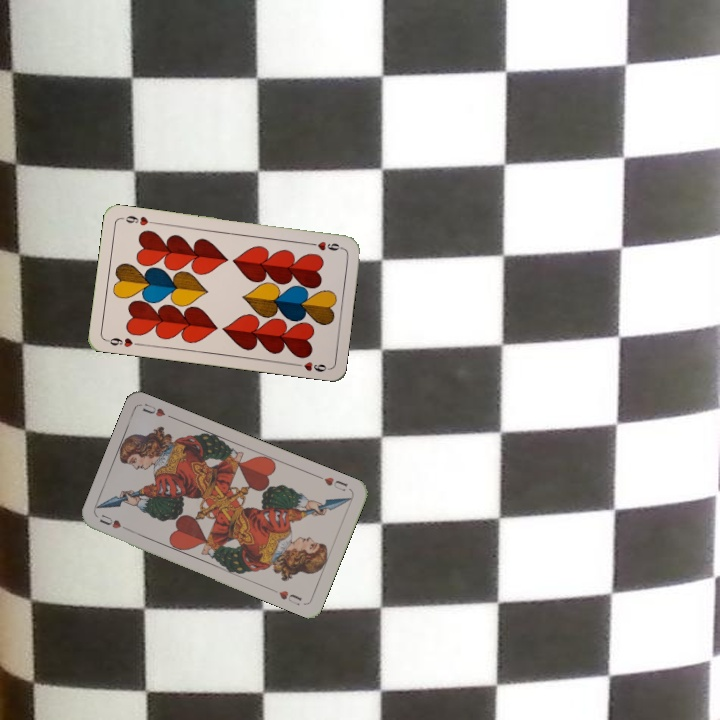H9: (102, 334, 143, 350), (305, 237, 345, 253)
HU: (95, 510, 133, 534), (320, 473, 350, 494)
